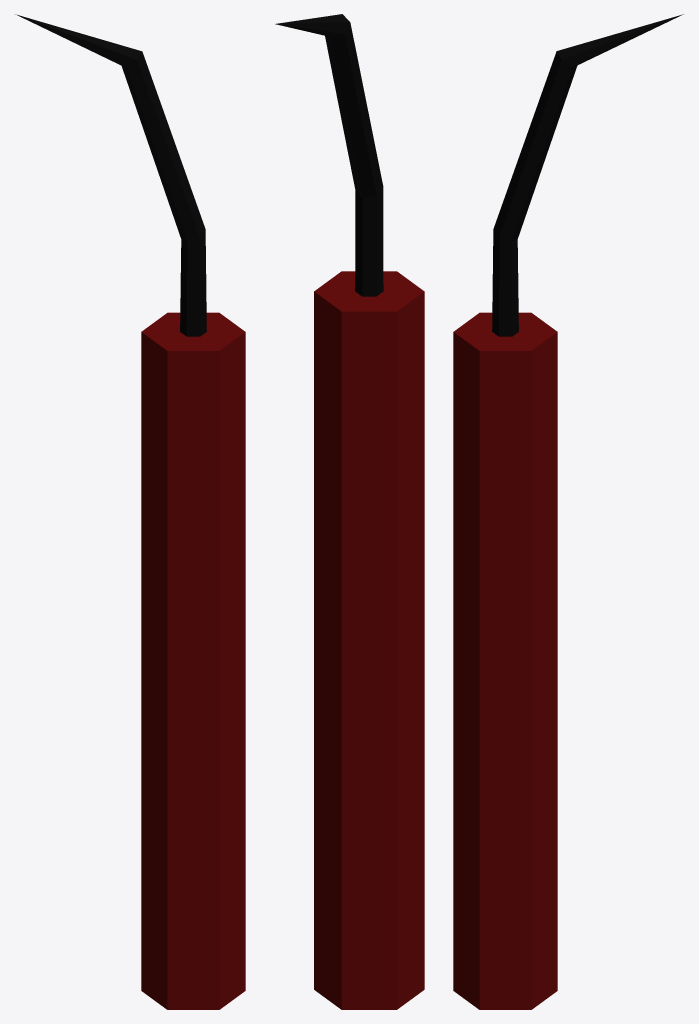
Rendered from Dynamite_Small.obj.
3 views of the same model, side by side, from view 1: azimuth 90°, elevation 25°; view 2: azimuth 150°, elevation 25°; view 3: azimuth 270°, elevation 25° (orthographic). The views are drawn at different scales.
Parts seen in each view (by area): view 1: Dynamite_Small_Cylinder; view 2: Dynamite_Small_Cylinder; view 3: Dynamite_Small_Cylinder.
Part boxes in pixels (x1,y1,x2,y2): Dynamite_Small_Cylinder: (15, 14, 245, 1009); Dynamite_Small_Cylinder: (275, 14, 424, 1009); Dynamite_Small_Cylinder: (453, 14, 683, 1009).
Bounding box in the file's own units: 0.025 × 0.2983 × 0.0639.
